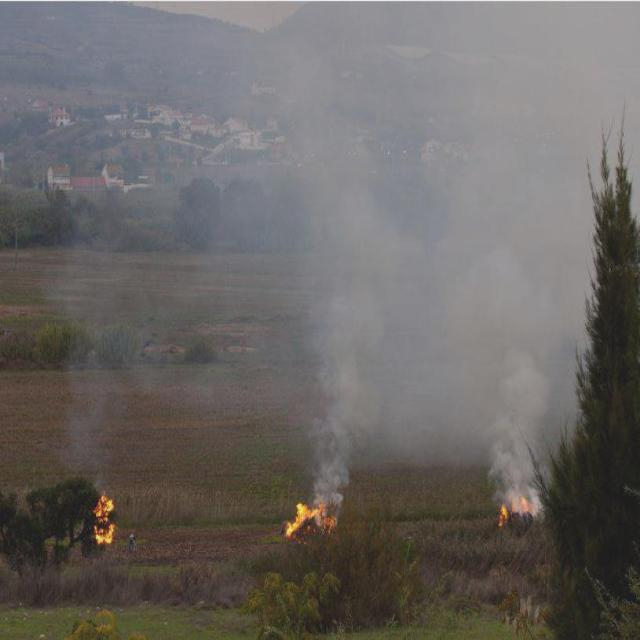Fire: (282, 500, 338, 542), (86, 489, 118, 546), (497, 496, 536, 534)
Smoke: (290, 28, 640, 494), (48, 157, 112, 487)
